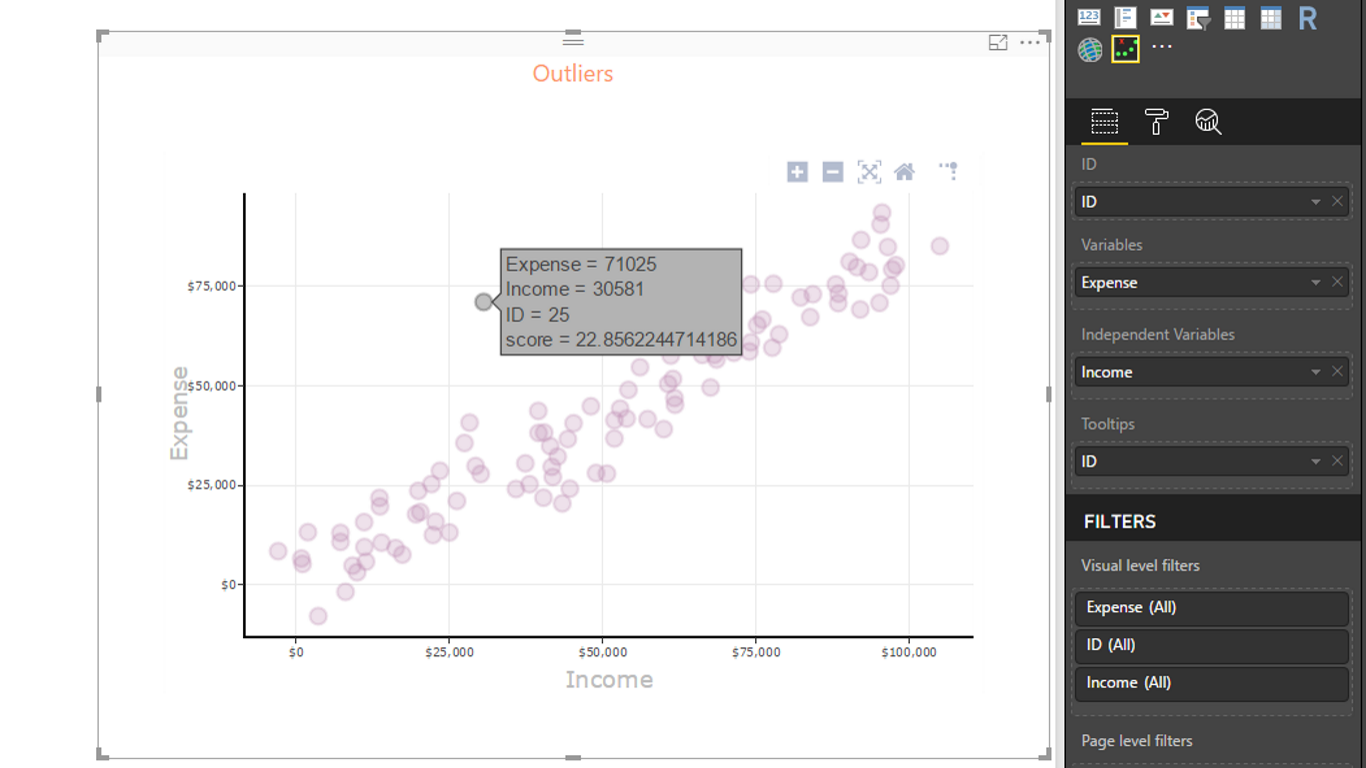

Layout of this report page (visuals, bound fields, positions):
{"tool":"powerbi","page":{"name":"Tips and Tricks","canvas":[1280,720],"ordinal":3},"visuals":[{"type":"textbox","box":[7.9,1.8,1255.5,350.7],"z":1},{"type":"outliersDetection7FCA","fields":{"ID":["FamilyBudget.ID"],"Values":["FamilyBudget.Expense"],"IndepVar":["FamilyBudget.Income","Sum(FamilyBudget.IncomePow2)"]},"box":[174.5,358.6,600.5,334],"z":2},{"type":"image","box":[774.1,470.8,390.1,206],"z":3}]}

Visuals, with their boxes on the page's 1280x720 design canvas (x1, y1, x2, y2). These are canvas units, not pixel positions in the 1366x768 screenshot, which may show the page scaled, cropped or inside an application window:
textbox: x1=8 y1=2 x2=1263 y2=352
outliersDetection7FCA - FamilyBudget.ID x FamilyBudget.Expense: x1=174 y1=359 x2=775 y2=693
image: x1=774 y1=471 x2=1164 y2=677
